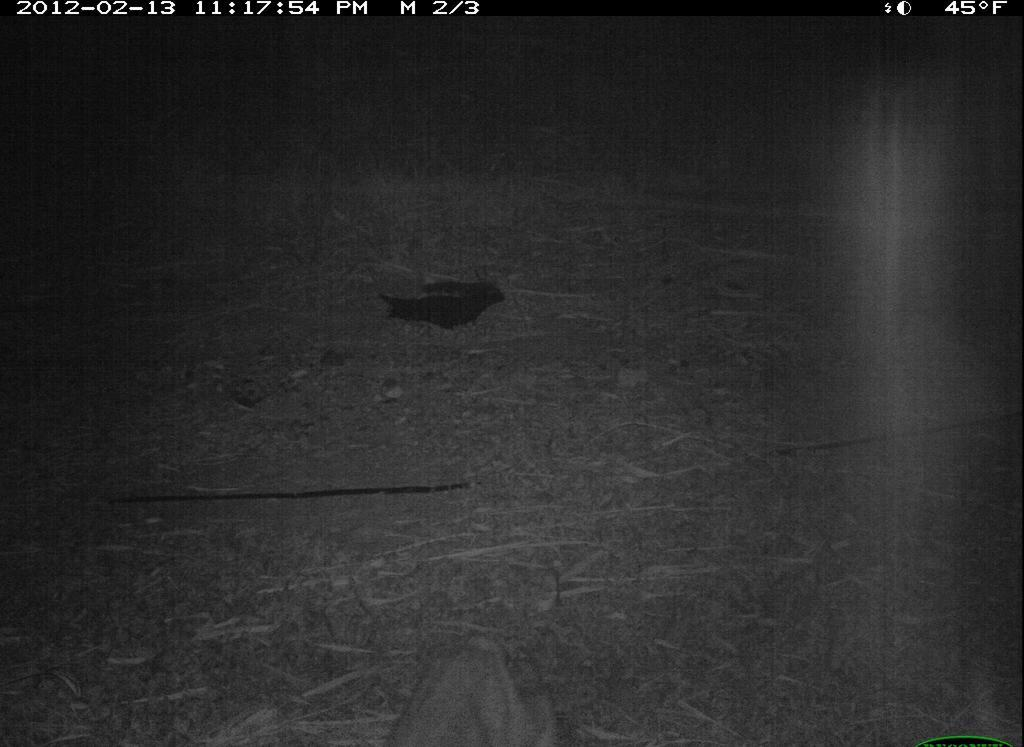bobcat: (379, 605, 569, 747)
